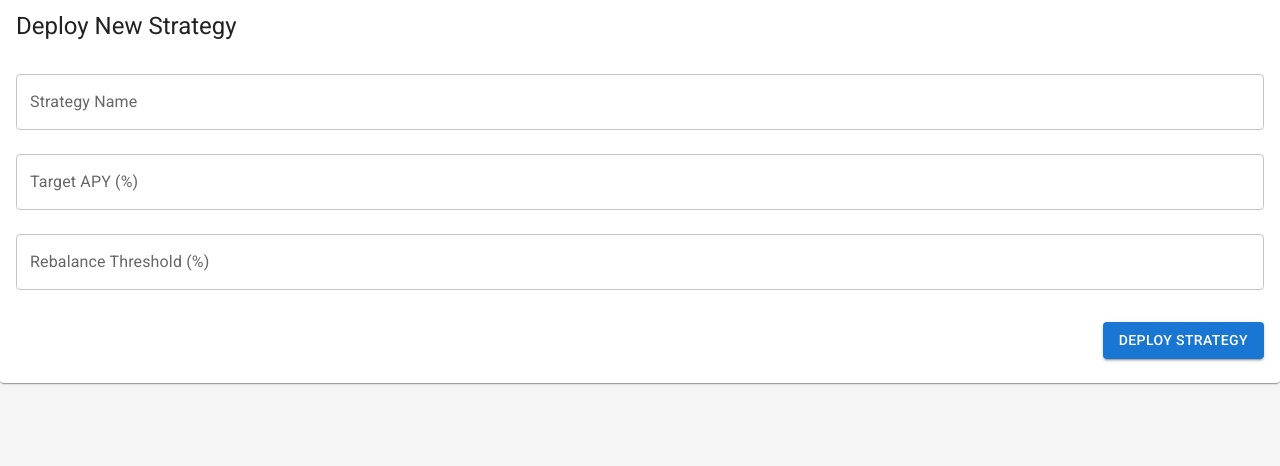
it: Strategy Component › should validate required fields
The width and height of the screenshot is (1280, 466).
Click the button "Deploy Strategy" at (1183, 340), box [1103,322,1264,358]
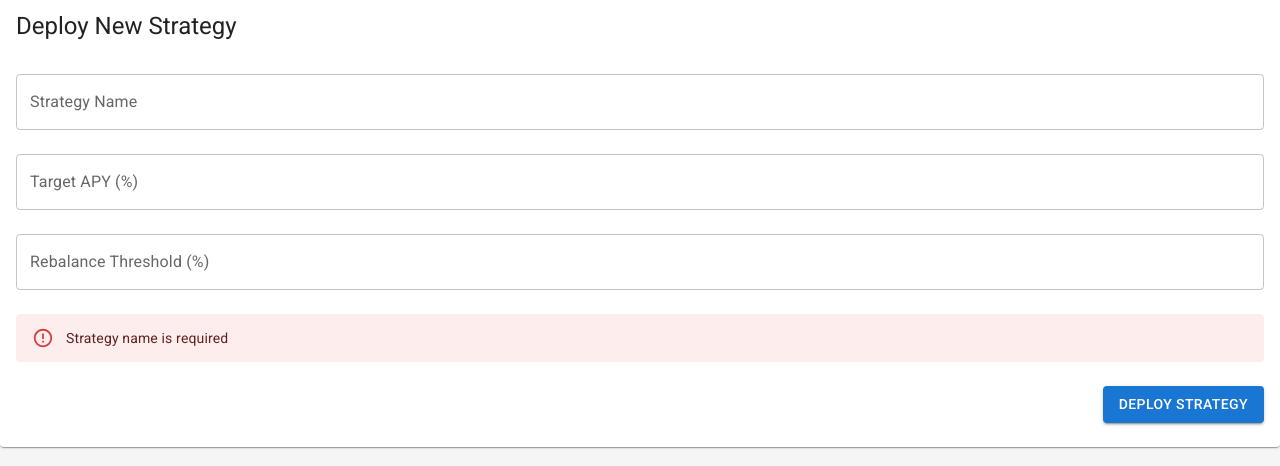
Expected: the text "Strategy name is required" is shown, [66,330,228,346]
